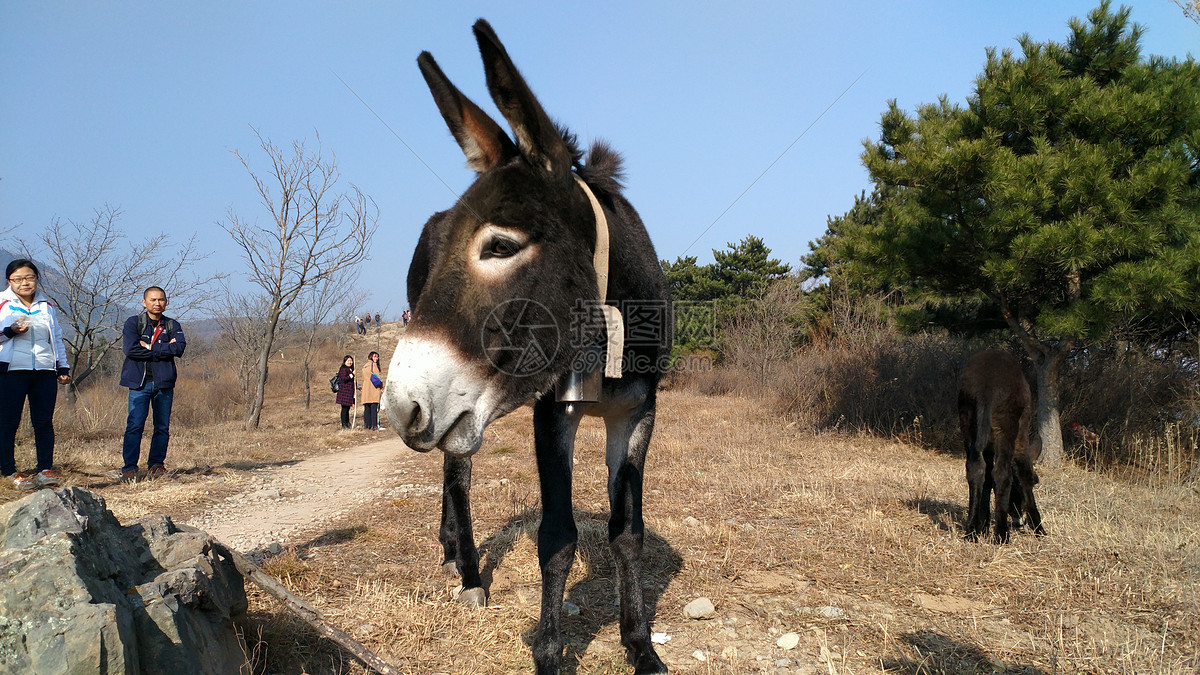background: (382, 22, 671, 673)
